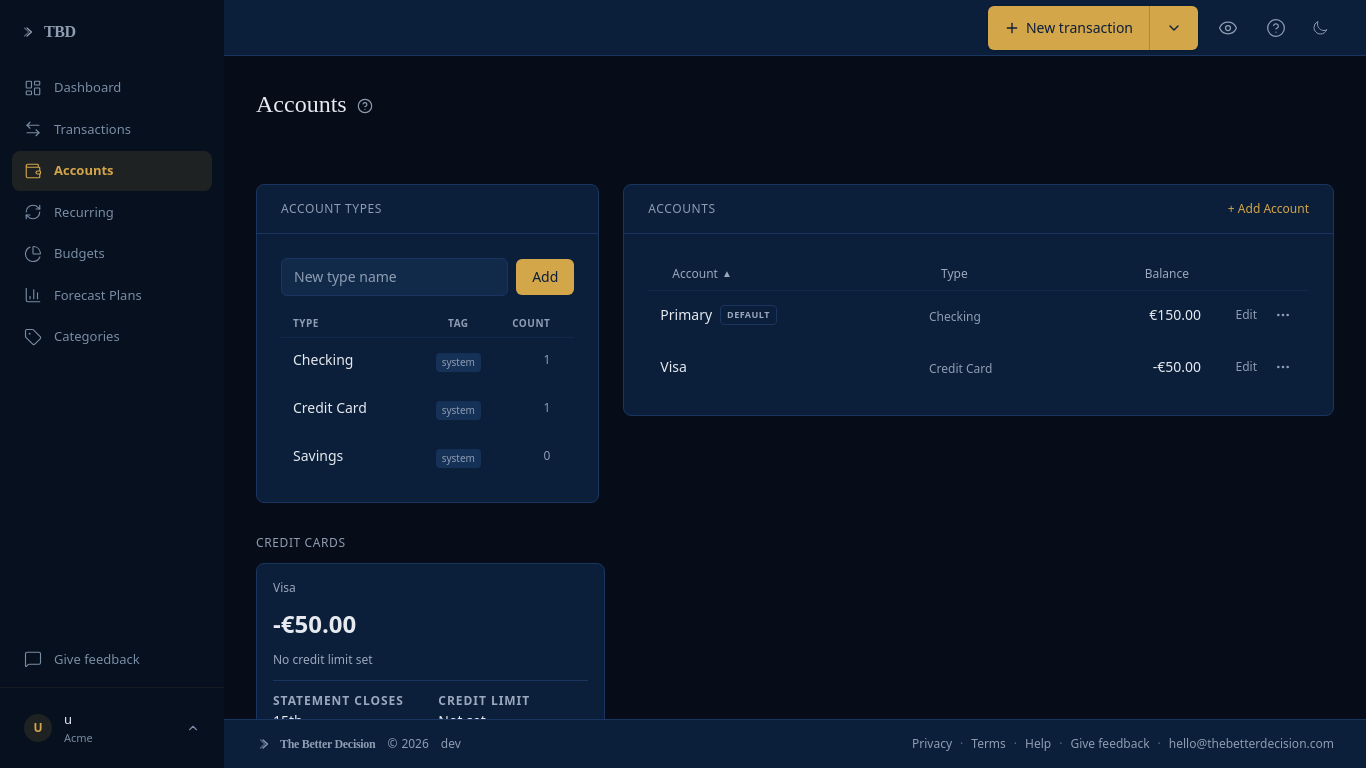
Scenario: Edit Account Type — inline edit row › changing to Credit Card reveals close-day input
Click the button "Edit" next to "€150.00" at (1246, 315), box [1236,307,1257,323]
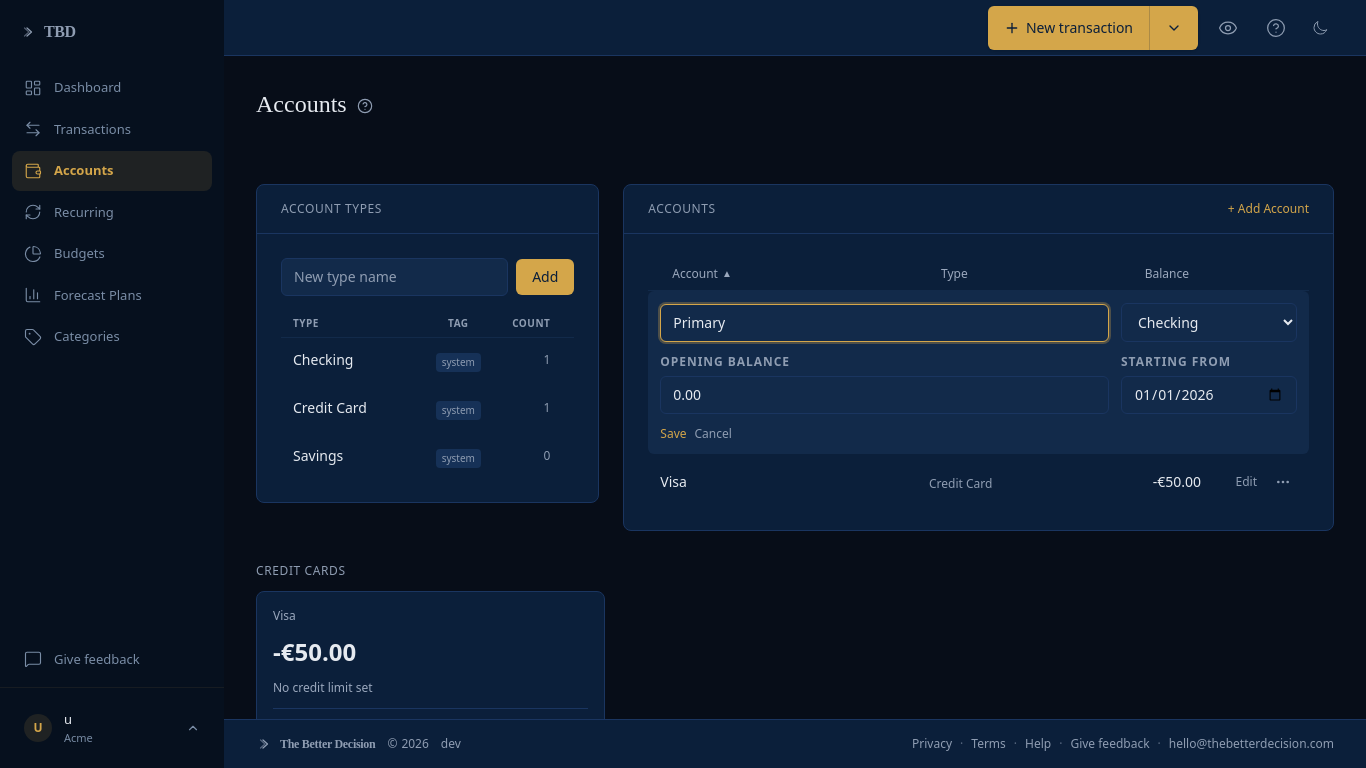
Expected: the field labelled "Close day" is not shown
Select "Credit Card" in the dropdown named "Account type" at (1209, 322), box [1121,303,1297,342]
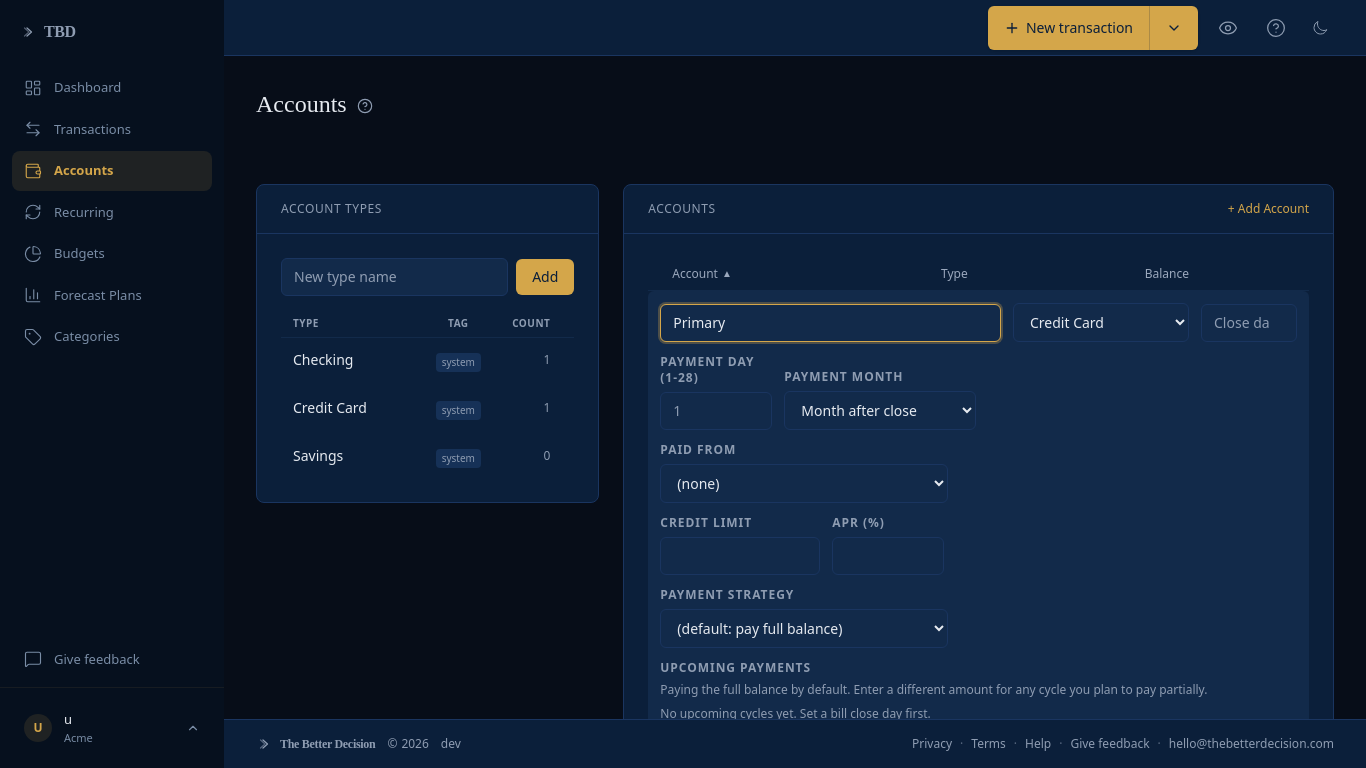
Expected: the number field labelled "Close day" is shown, [1201,304,1297,342]
